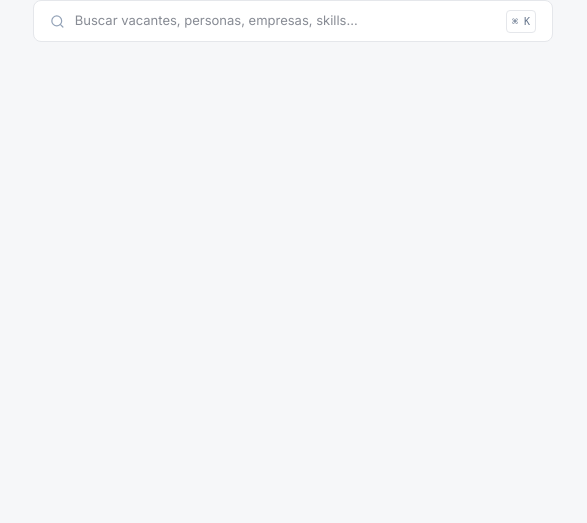
it: SearchBox › sends the session when there is one, so people show up
The image size is (587, 523).
Type "ana" into the dropdown at x=285, y=21, box left=75, top=11, right=496, bottom=31
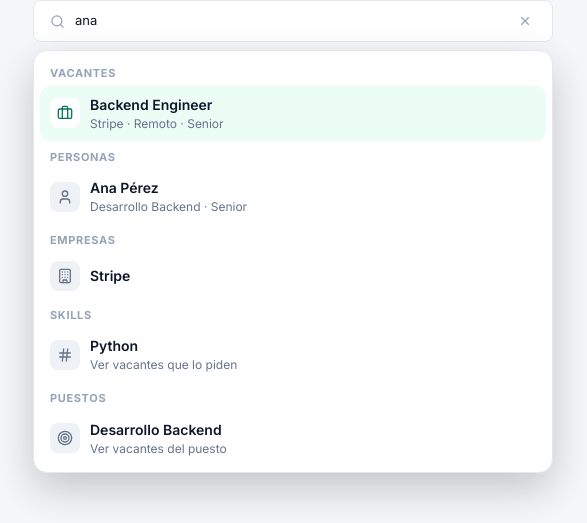
Expected: the text "Ana Pérez" is shown, left=90, top=179, right=159, bottom=196
